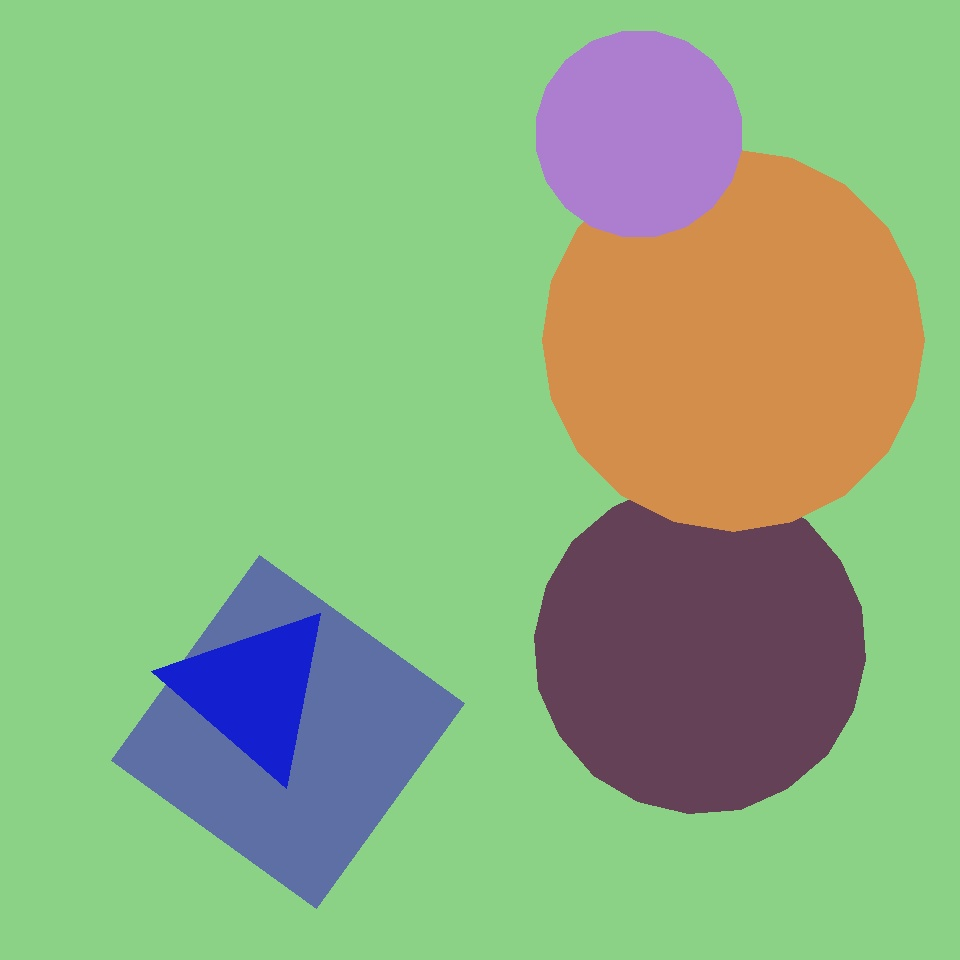circle: (168, 604, 338, 779)
square: (111, 556, 464, 908)
triangle: (542, 149, 924, 531), (534, 483, 865, 814), (536, 32, 742, 236)
